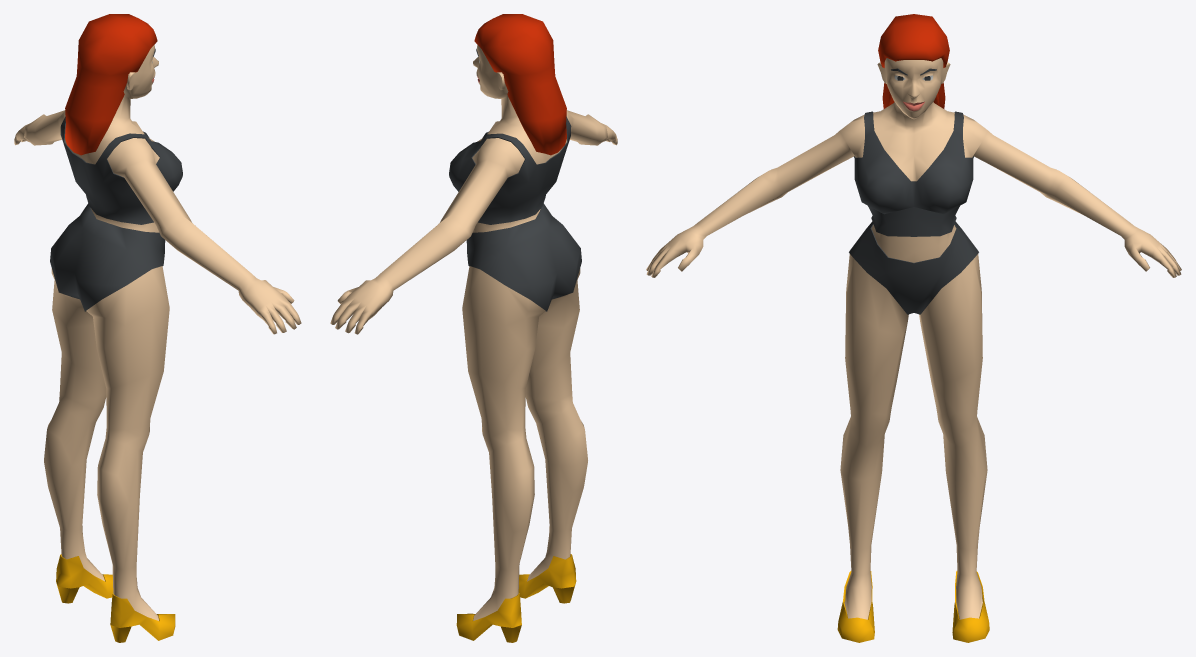
The model's file is _oman.fbx.
3 renders of one model, left to right at view 1: azimuth 30°, elevation 25°; view 2: azimuth 150°, elevation 25°; view 3: azimuth 270°, elevation 25°, orthographic.
Parts seen in each view (by area): view 1: Women; view 2: Women; view 3: Women.
Boxes of the visible parts, x1,y1,x2,y2 form: Women: (14, 14, 301, 642); Women: (330, 14, 617, 642); Women: (646, 14, 1181, 642).
Bounding box in the file's own units: 32.67 × 166 × 132.
